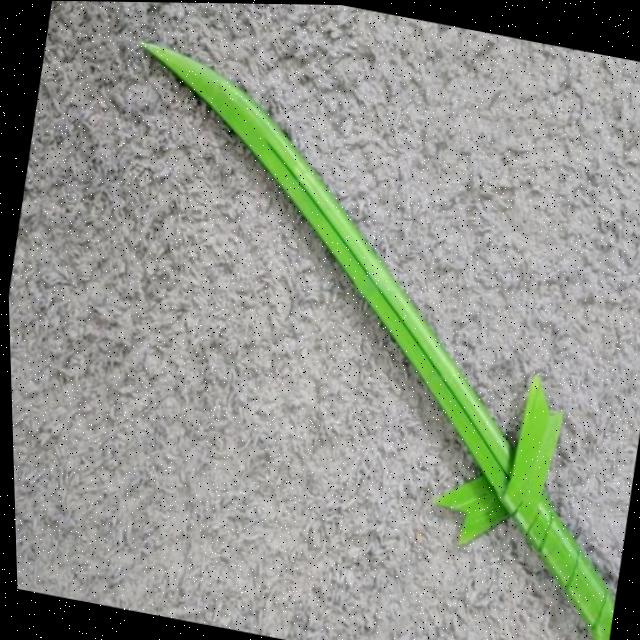knife: (47, 21, 640, 640)
